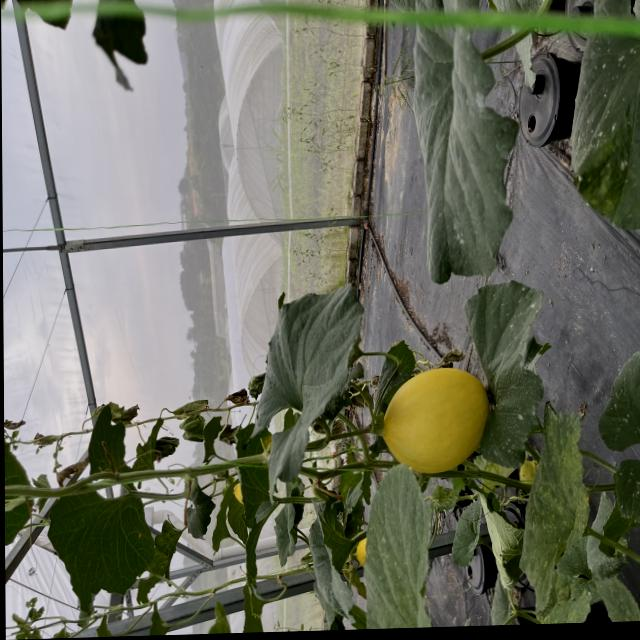CMV: (55, 469, 156, 607)
alternaria leaf blight: (518, 404, 593, 602)
downy mildew: (348, 450, 449, 630)
healthy: (257, 283, 368, 490)
powdery mildew: (412, 2, 508, 283), (568, 0, 640, 229), (471, 280, 548, 469)
